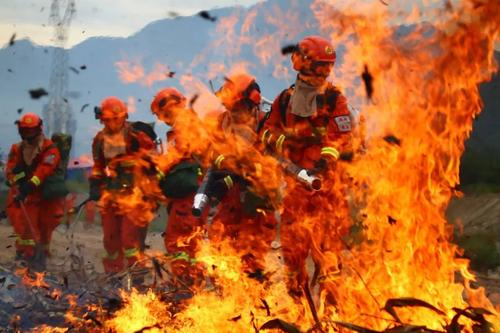fire: (346, 7, 470, 330), (182, 104, 343, 258), (115, 259, 343, 333)
smoke: (24, 42, 181, 95), (179, 8, 294, 79)
